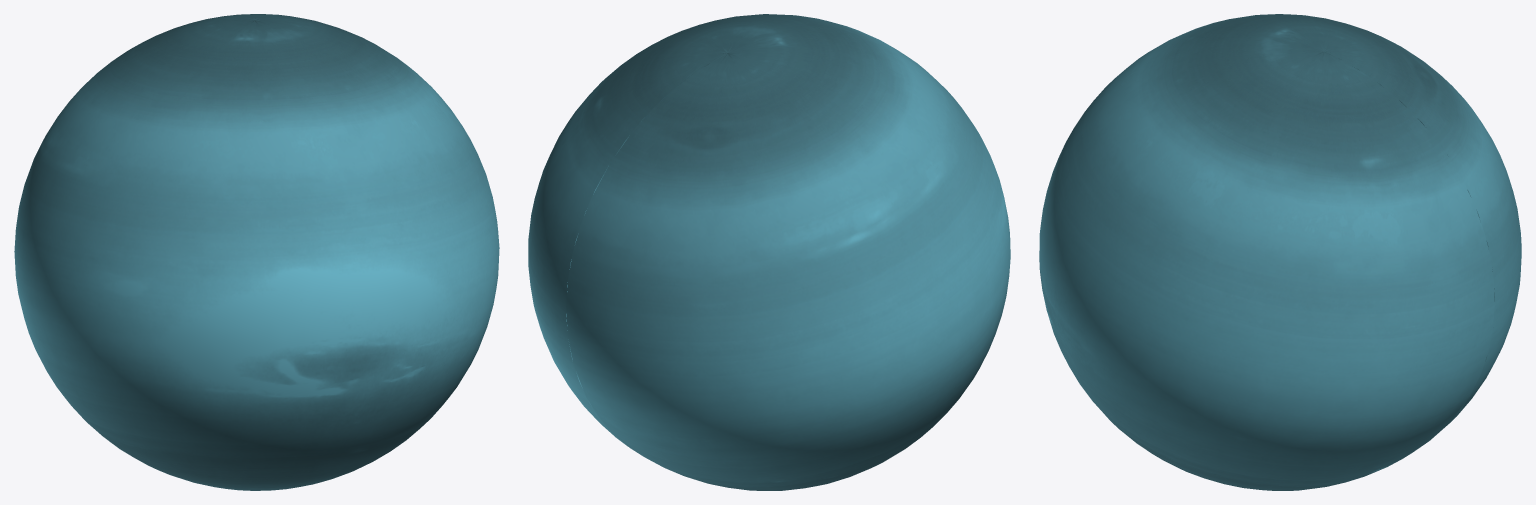
The model's file is neptune.glb.
The picture shows the model from 3 angles, left to right: view 1: azimuth 30°, elevation 25°; view 2: azimuth 150°, elevation 25°; view 3: azimuth 270°, elevation 25°; orthographic projection.
Visible parts, largest first — view 1: Neptune; view 2: Neptune; view 3: Neptune.
Boxes of the visible parts, <box> form: Neptune: <box>14,14,499,490</box>; Neptune: <box>528,14,1010,490</box>; Neptune: <box>1039,14,1521,490</box>.
Size of the model in its own units: 2.8 by 2.75 by 2.8.
Materials: 1 (1 with a texture image).
